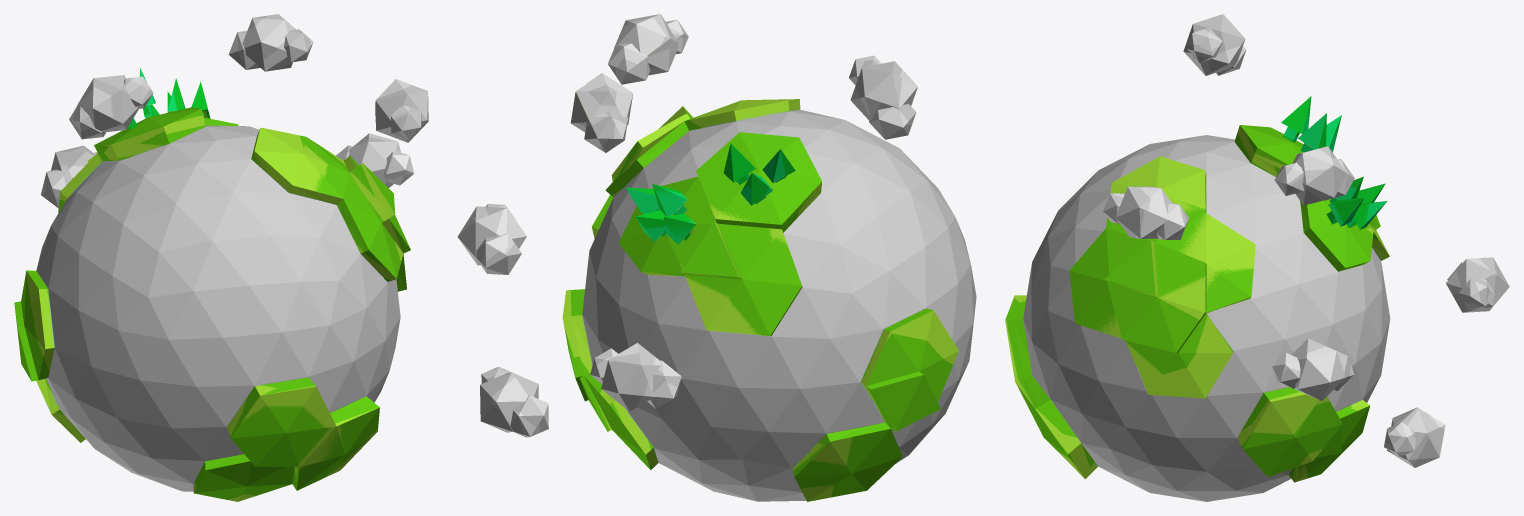
File: 3DEarthModel.dae
3 renders of one model, left to right at view 1: azimuth 30°, elevation 25°; view 2: azimuth 150°, elevation 25°; view 3: azimuth 270°, elevation 25°, orthographic. The views are drawn at different scales.
Parts seen in each view (by area): view 1: Icosphere-021, Icosphere-020, IcosphereActived-002, Icosphere-035, Icosphere-038, Icosphere-023, Icosphere-026, Icosphere-039, Icosphere-034, Icosphere-029; view 2: Icosphere-021, Icosphere-020, IcosphereActived-002, Icosphere-026, Icosphere-035, Icosphere-032, Icosphere-028, Icosphere-022, Icosphere-023, Icosphere-031, Icosphere-029, Plane-009 (+3 smaller); view 3: Icosphere-021, Icosphere-020, IcosphereActived-002, Icosphere-026, Icosphere-035, Icosphere-023, Icosphere-038, Icosphere-032, Icosphere-027, Plane-010.
Boxes of the visible parts, x1=… form: Icosphere-021: x1=36, y1=125, x2=400, y2=491; Icosphere-020: x1=14, y1=107, x2=410, y2=499; IcosphereActived-002: x1=25, y1=14, x2=428, y2=501; Icosphere-035: x1=77, y1=75, x2=137, y2=132; Icosphere-038: x1=375, y1=85, x2=428, y2=141; Icosphere-023: x1=244, y1=15, x2=295, y2=69; Icosphere-026: x1=51, y1=145, x2=94, y2=170; Icosphere-039: x1=391, y1=107, x2=421, y2=139; Icosphere-034: x1=69, y1=105, x2=103, y2=139; Icosphere-029: x1=353, y1=133, x2=397, y2=187; Icosphere-021: x1=582, y1=110, x2=976, y2=501; Icosphere-020: x1=564, y1=110, x2=952, y2=497; IcosphereActived-002: x1=457, y1=17, x2=958, y2=501; Icosphere-026: x1=601, y1=343, x2=660, y2=411; Icosphere-035: x1=851, y1=61, x2=917, y2=120; Icosphere-032: x1=480, y1=372, x2=538, y2=432; Icosphere-028: x1=476, y1=233, x2=521, y2=274; Icosphere-022: x1=584, y1=111, x2=628, y2=152; Icosphere-023: x1=571, y1=84, x2=632, y2=127; Icosphere-031: x1=510, y1=395, x2=548, y2=437; Icosphere-029: x1=474, y1=206, x2=506, y2=259; Plane-009: x1=723, y1=143, x2=755, y2=184; Icosphere-021: x1=1023, y1=135, x2=1390, y2=501; Icosphere-020: x1=1005, y1=125, x2=1380, y2=478; IcosphereActived-002: x1=1005, y1=29, x2=1497, y2=482; Icosphere-026: x1=1453, y1=257, x2=1509, y2=312; Icosphere-035: x1=1183, y1=14, x2=1245, y2=73; Icosphere-023: x1=1295, y1=146, x2=1347, y2=205; Icosphere-038: x1=1115, y1=186, x2=1150, y2=237; Icosphere-032: x1=1391, y1=407, x2=1444, y2=467; Icosphere-027: x1=1458, y1=278, x2=1489, y2=309; Plane-010: x1=1281, y1=96, x2=1311, y2=141.
Size of the model in its own units: 2.61 by 2.56 by 2.82.
5 materials, 1 textured.
